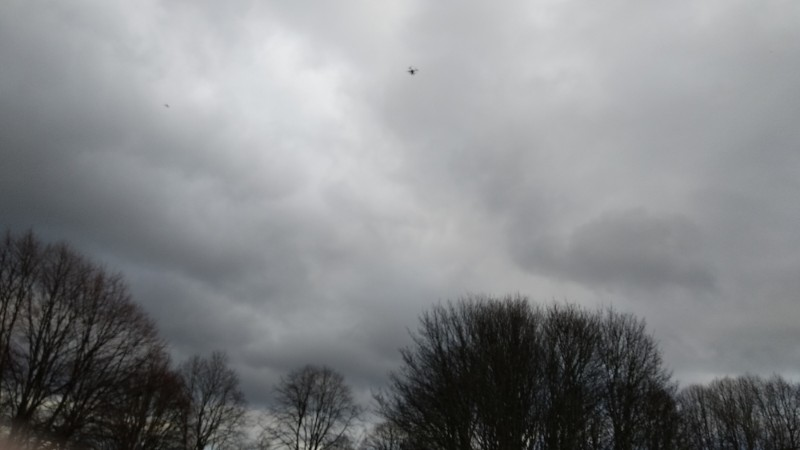drone: (407, 67, 418, 75)
